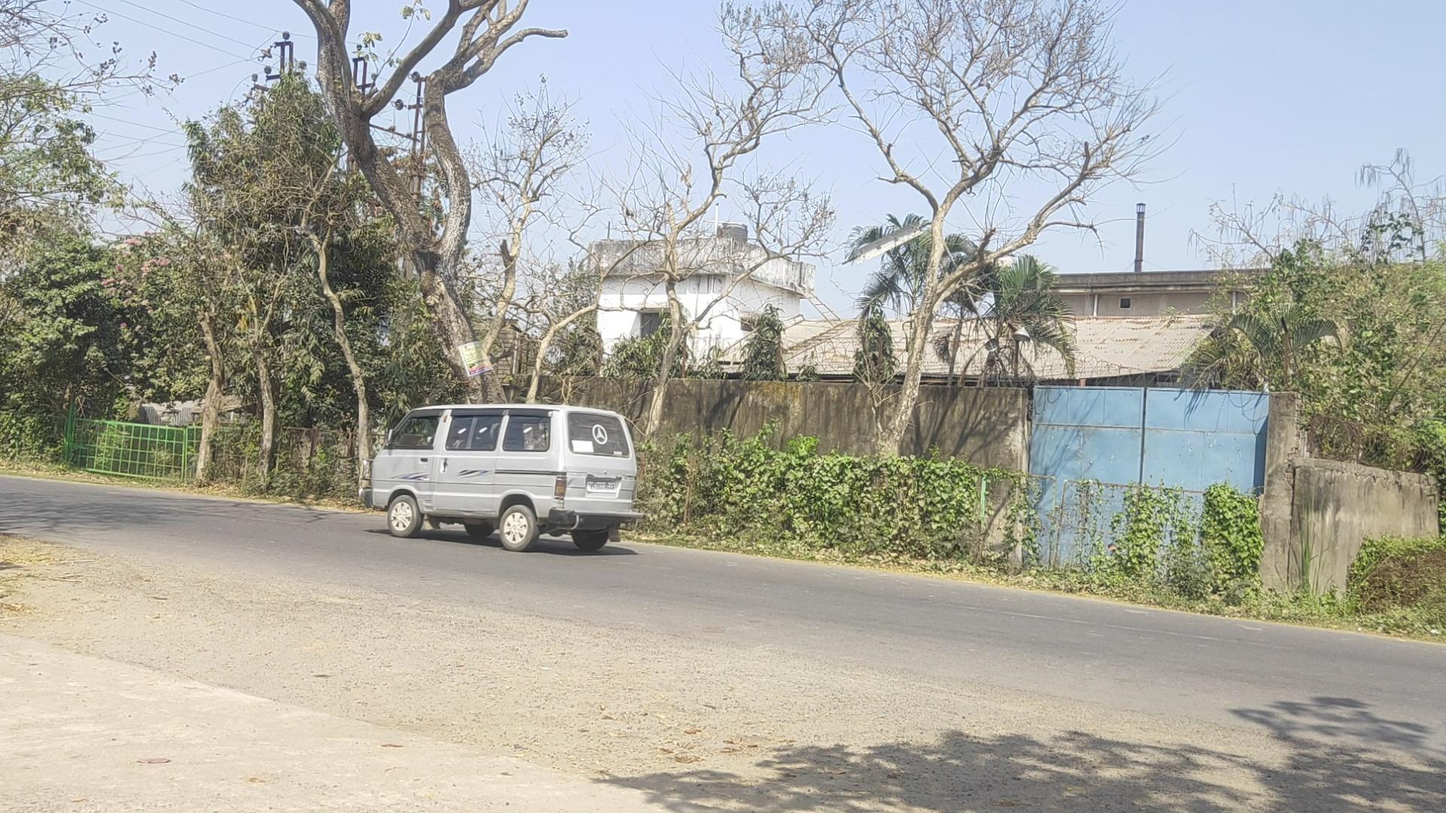van: (358, 403, 644, 552)
